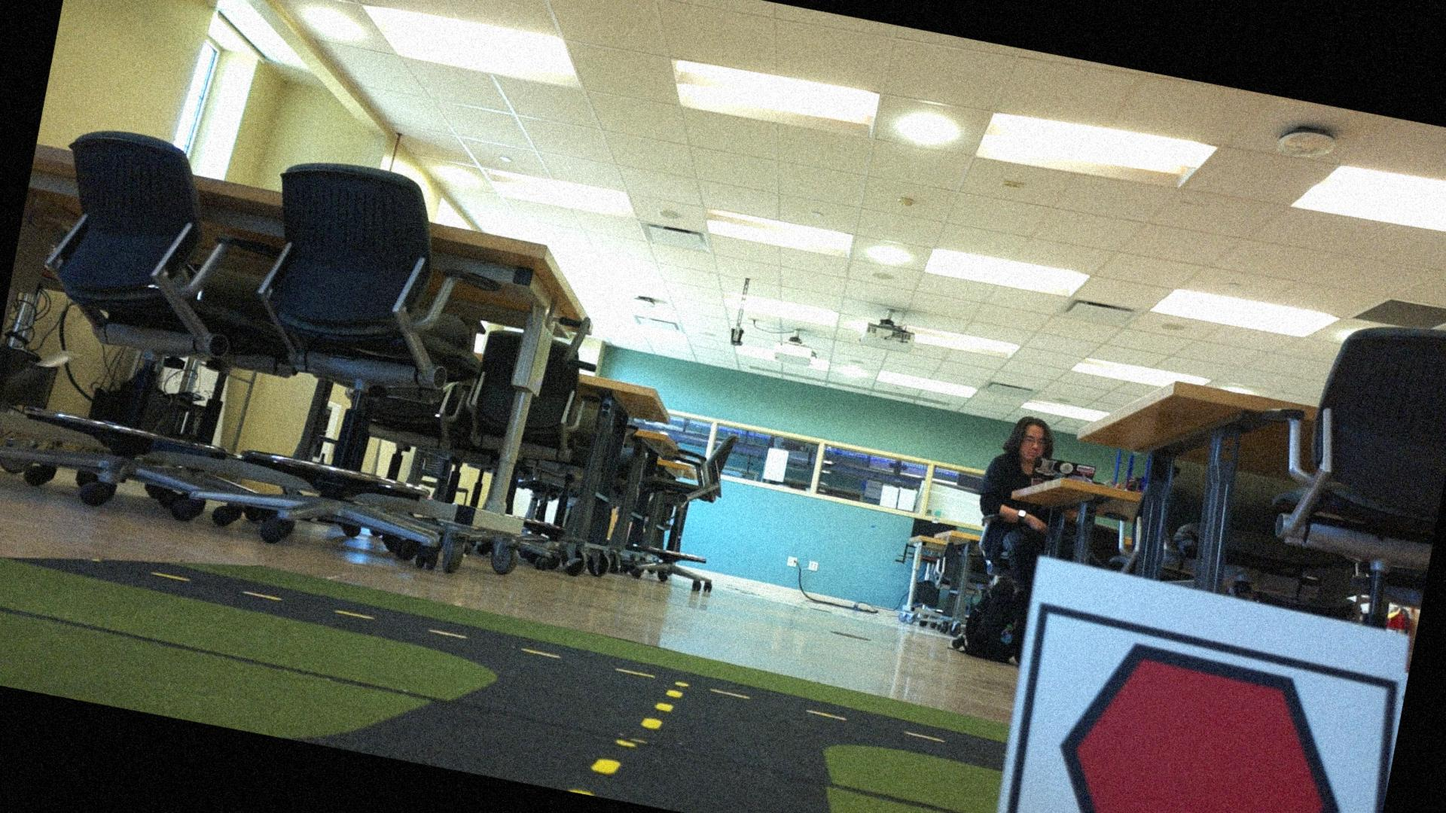stop: (1017, 626, 1382, 812)
yellowline: (591, 677, 682, 784)
